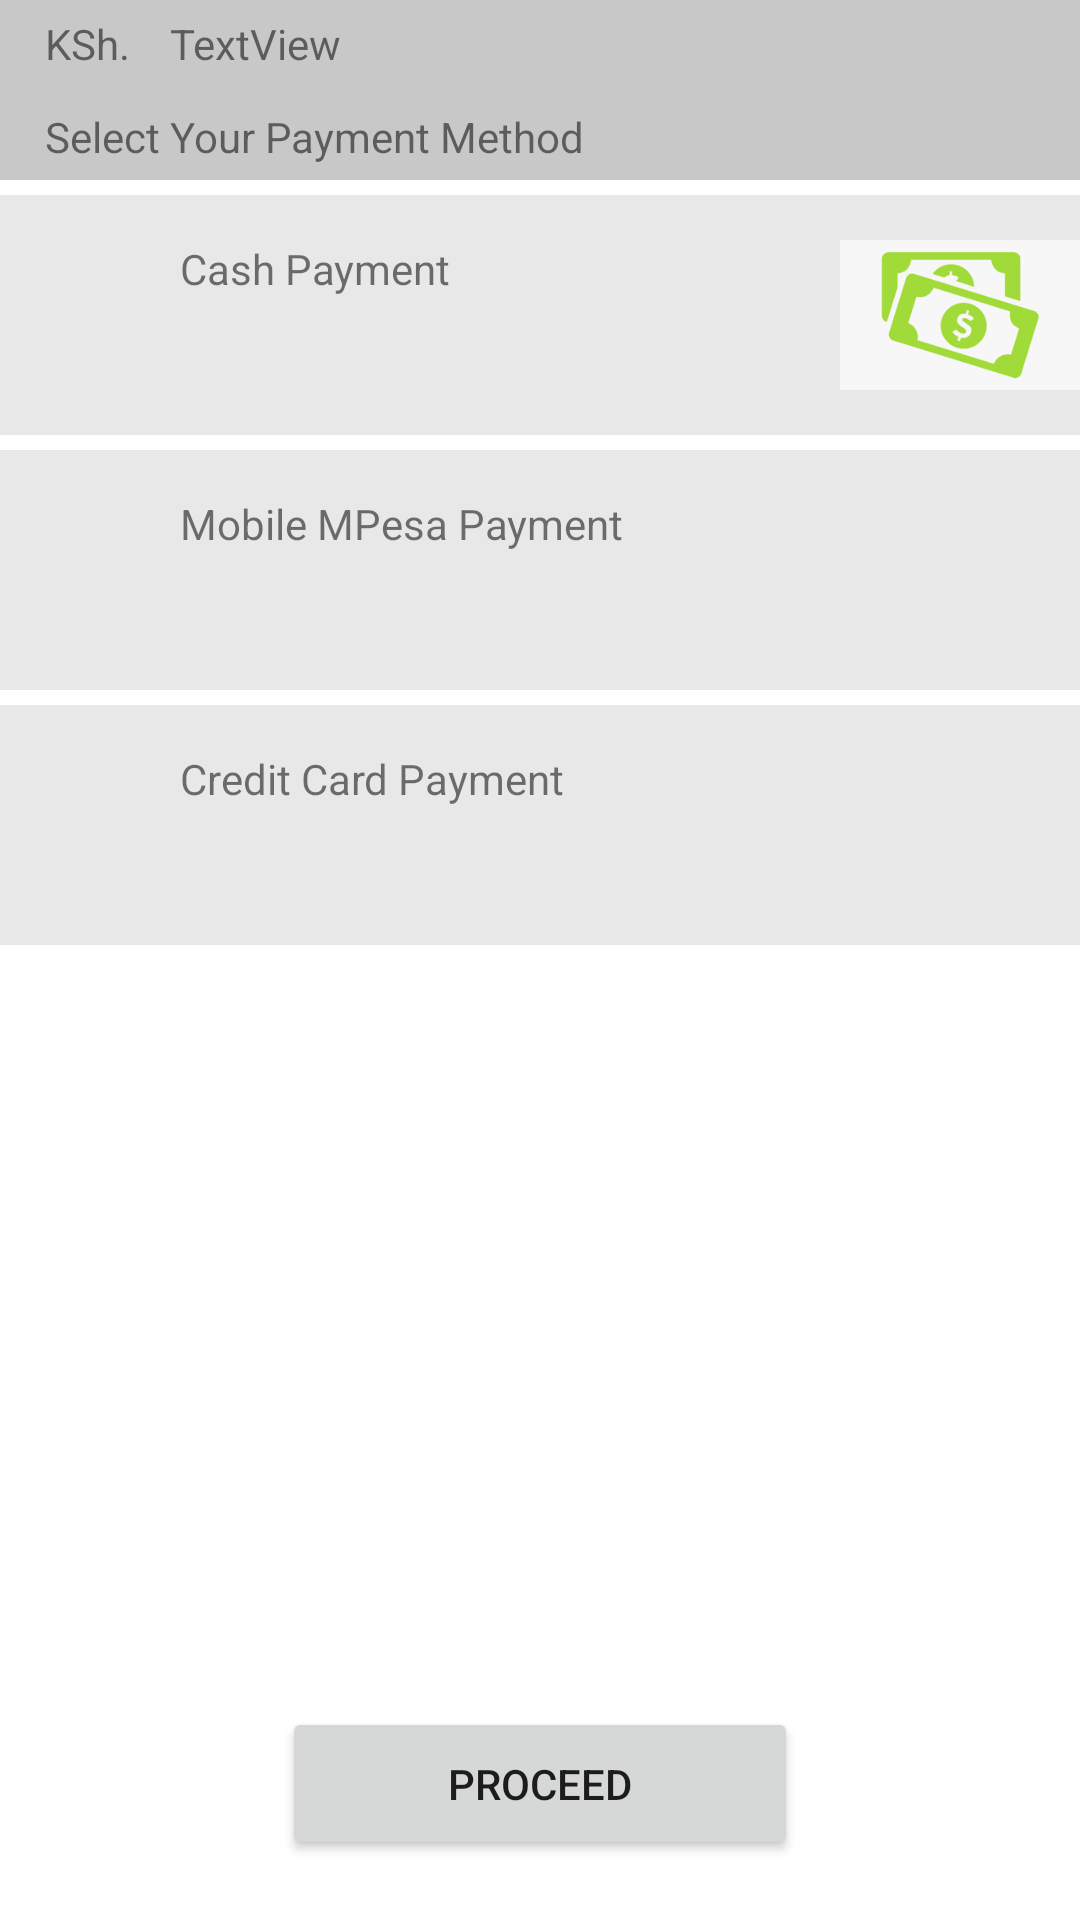

Screen size 1080x1920. Icon name, then its center in pixels as [x,y]:
currency: [960,315]
